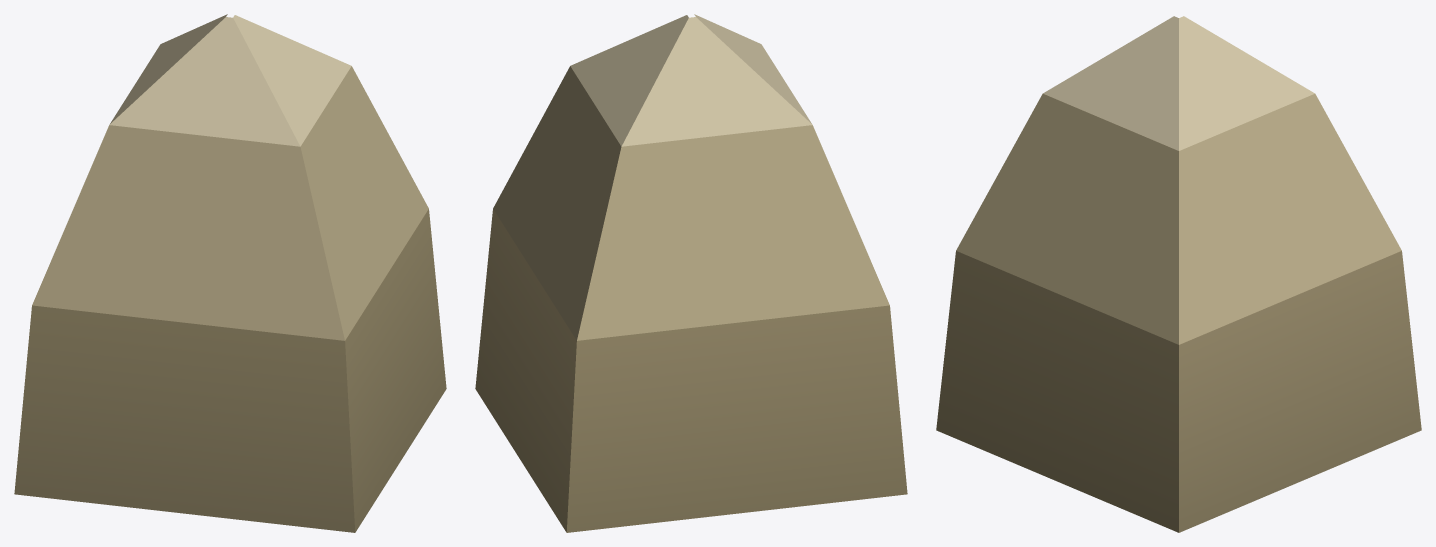
File: haystack.lod2.glb
3 renders of one model, left to right at view 1: azimuth 30°, elevation 25°; view 2: azimuth 150°, elevation 25°; view 3: azimuth 270°, elevation 25°, orthographic. The views are drawn at different scales.
Bounding box in the file's own units: 1.96 × 1.84 × 1.96.
